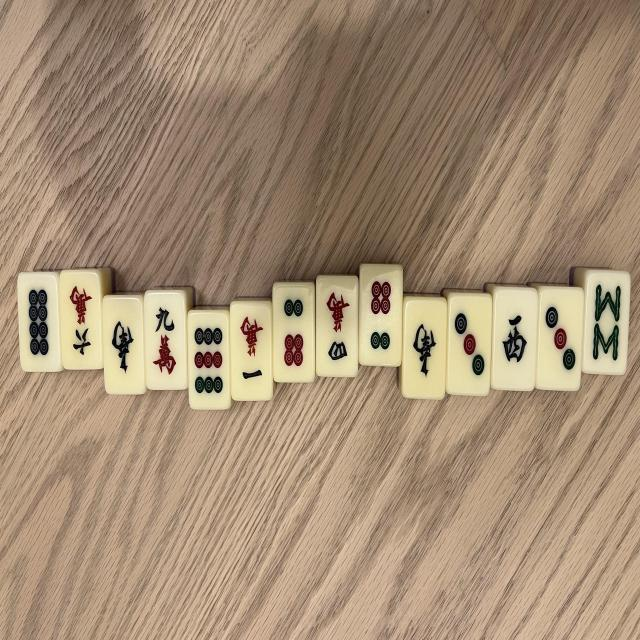m1: (230, 302, 272, 401)
m4: (317, 276, 361, 376)
m6: (58, 271, 102, 370)
m9: (145, 293, 189, 392)
s8: (583, 270, 630, 376)
south: (402, 299, 447, 400), (102, 298, 144, 395)
t3: (536, 286, 586, 391), (447, 294, 492, 396)
t6: (359, 264, 404, 367), (272, 284, 315, 384)
t8: (19, 274, 61, 372)
t9: (188, 309, 231, 410)
west: (493, 288, 539, 392)
